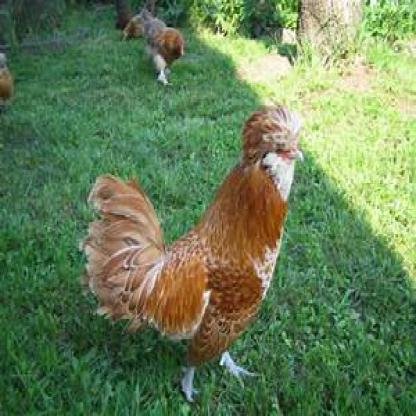chicken: (80, 102, 305, 402), (141, 10, 188, 88)
